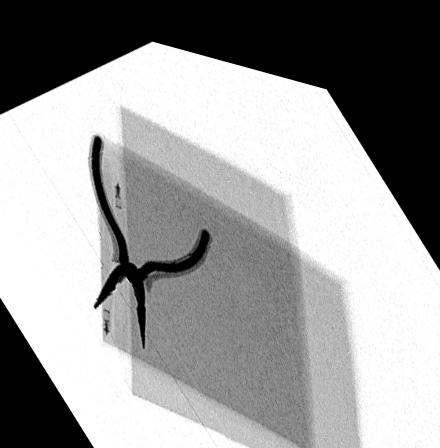Pliers: (86, 126, 211, 343)
